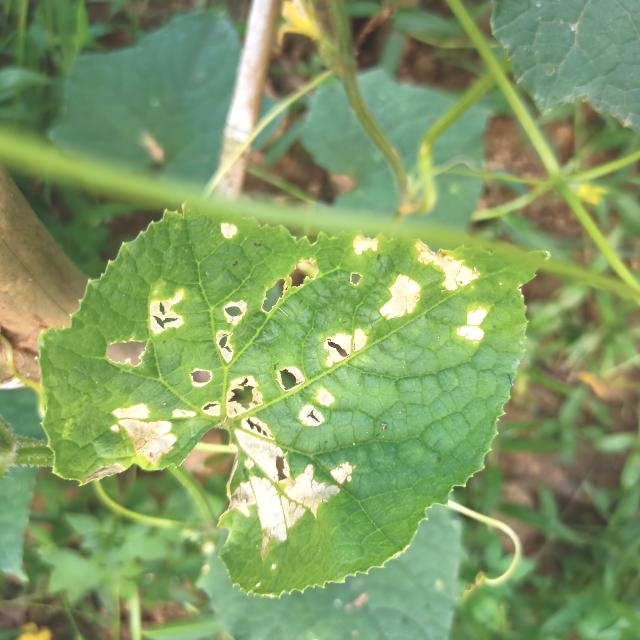disease_cucumber: (101, 284, 369, 553), (343, 232, 498, 368), (212, 219, 248, 250)
